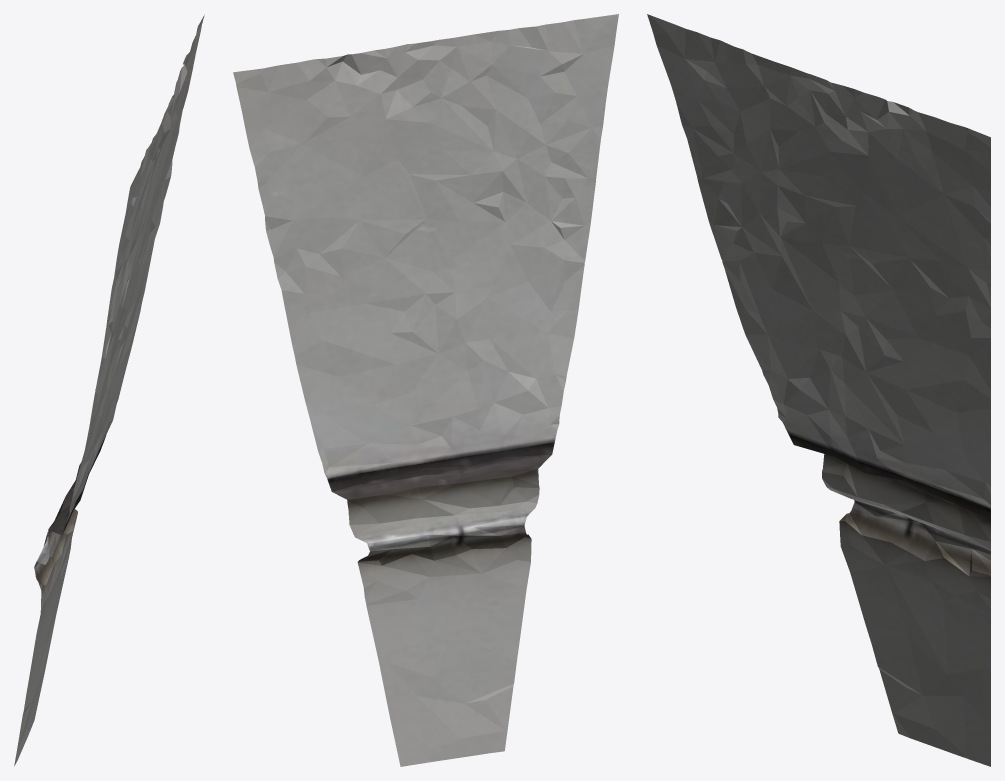
3 renders of one model, left to right at view 1: azimuth 30°, elevation 25°; view 2: azimuth 150°, elevation 25°; view 3: azimuth 270°, elevation 25°, orthographic. The views are drawn at different scales.
Size of the model in its own units: 0.6157 by 1.67 by 0.7254.
1 material, 1 textured.
